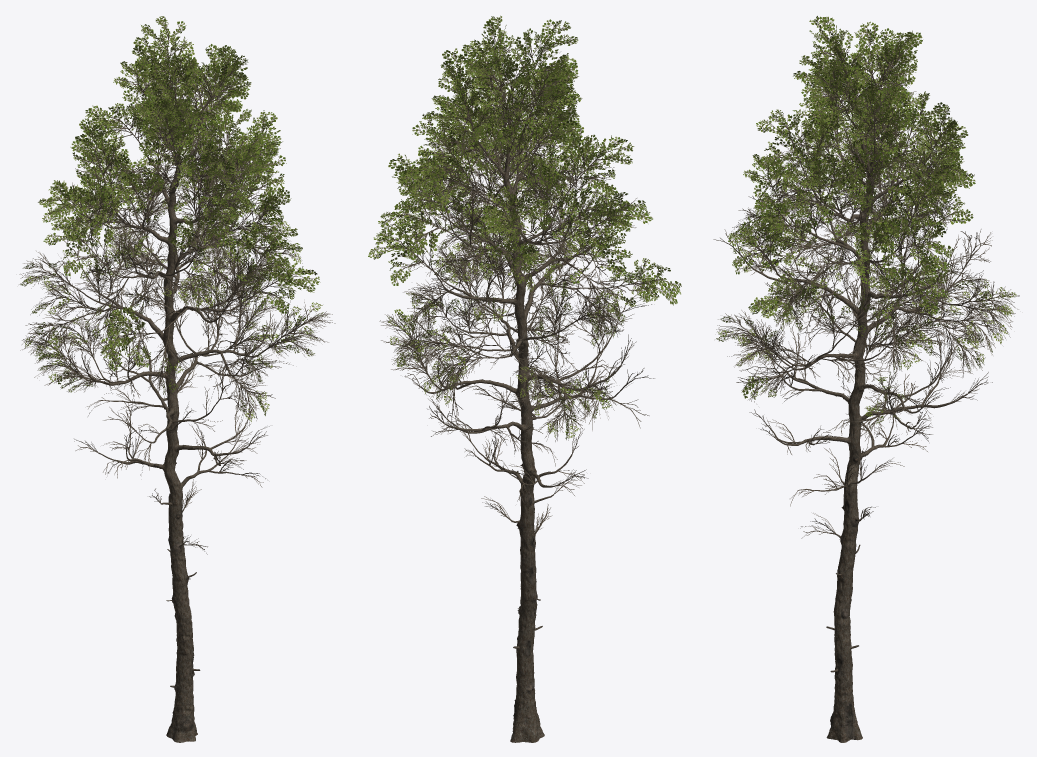
File: SM_BlackAlder_Forest_01_PP_LOD1.gltf
The picture shows the model from 3 angles, left to right: view 1: azimuth 30°, elevation 25°; view 2: azimuth 150°, elevation 25°; view 3: azimuth 270°, elevation 25°; orthographic projection. The views are drawn at different scales.
Parts seen in each view (by area): view 1: SM_BlackAlder_Forest_01_PP; view 2: SM_BlackAlder_Forest_01_PP; view 3: SM_BlackAlder_Forest_01_PP.
Part boxes in pixels (box(x1,y1,x2,y2)): SM_BlackAlder_Forest_01_PP: box(19, 16, 335, 742); SM_BlackAlder_Forest_01_PP: box(368, 15, 681, 742); SM_BlackAlder_Forest_01_PP: box(713, 16, 1019, 742).
Bounding box in the file's own units: 8.17 × 20.9 × 8.25.
Materials: 3 (3 with a texture image).
